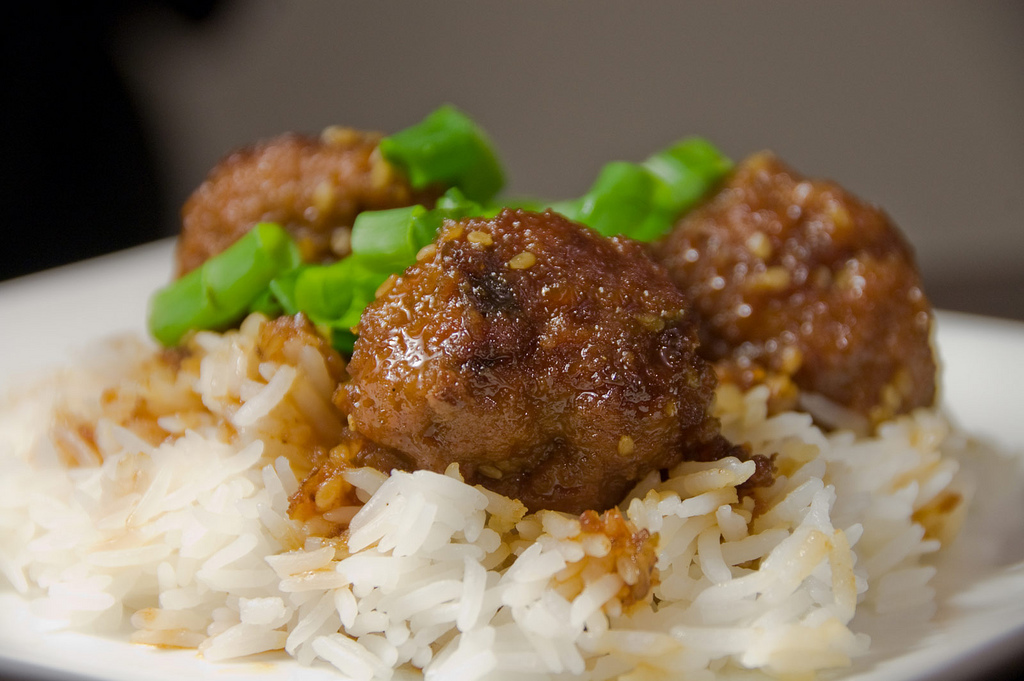chopped lettuce: (163, 263, 334, 319)
meatballs: (378, 227, 675, 465), (652, 194, 955, 396)
plain rice: (124, 481, 804, 647)
